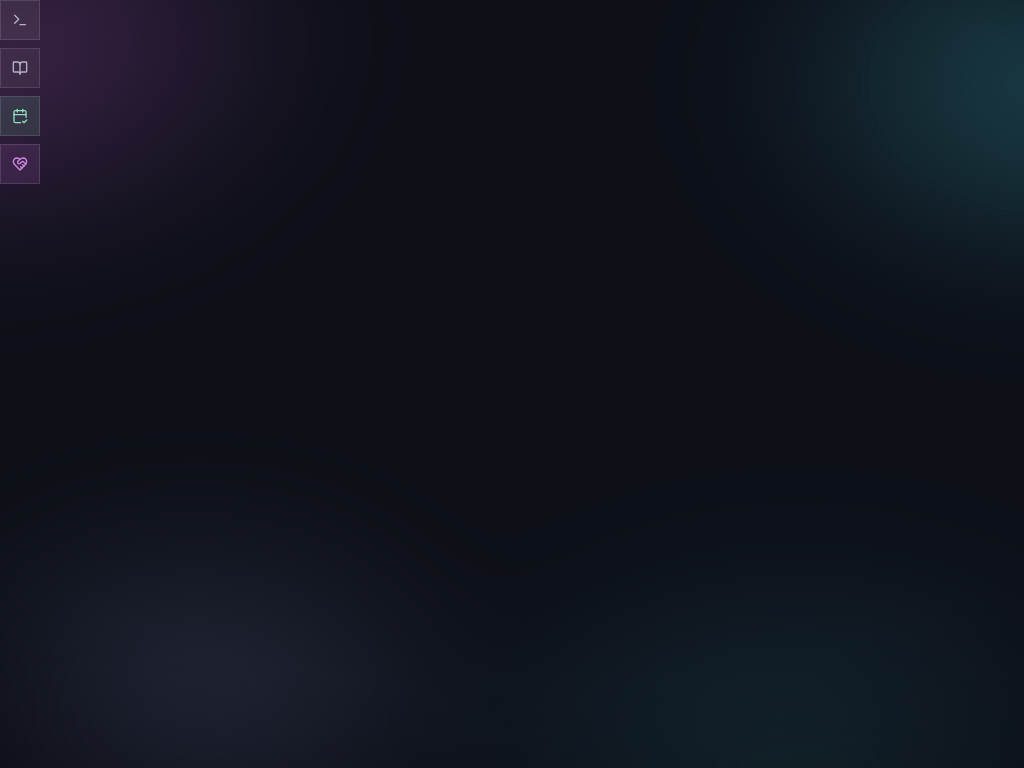
Test case: RightRail › shows a no-matches message when the search returns nothing
Click the button with test id "rail-docs": (20, 68) [0, 48, 40, 88]
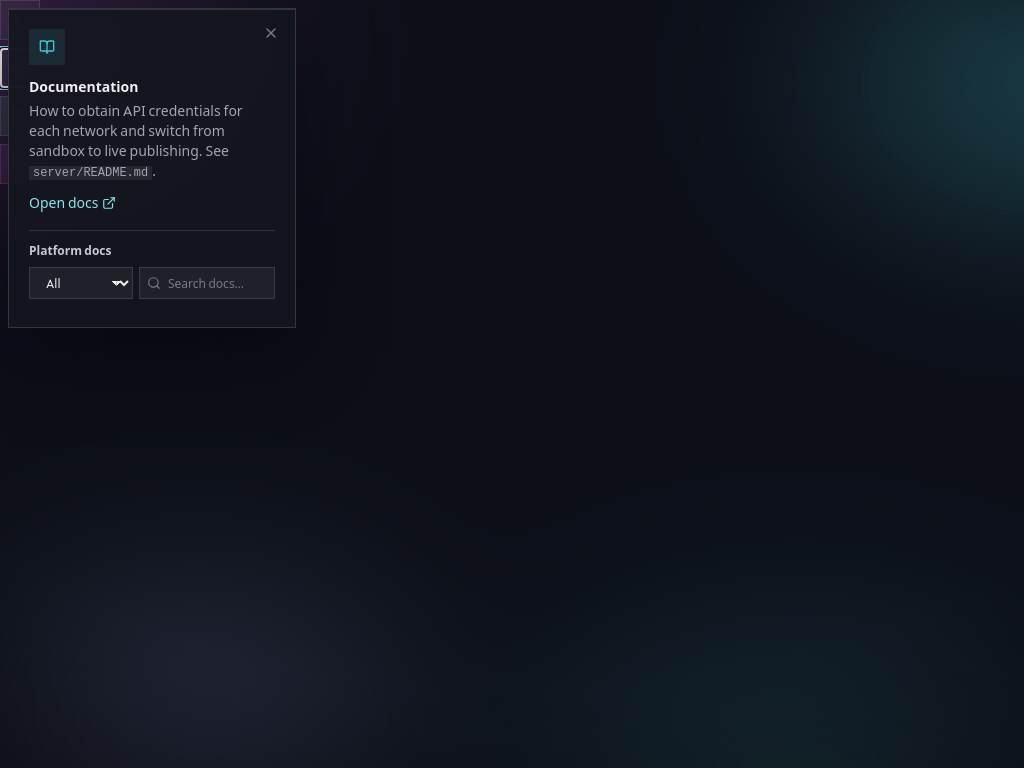
In the search field named "Search platform docs": (207, 283) [139, 267, 275, 299], type "nothing"
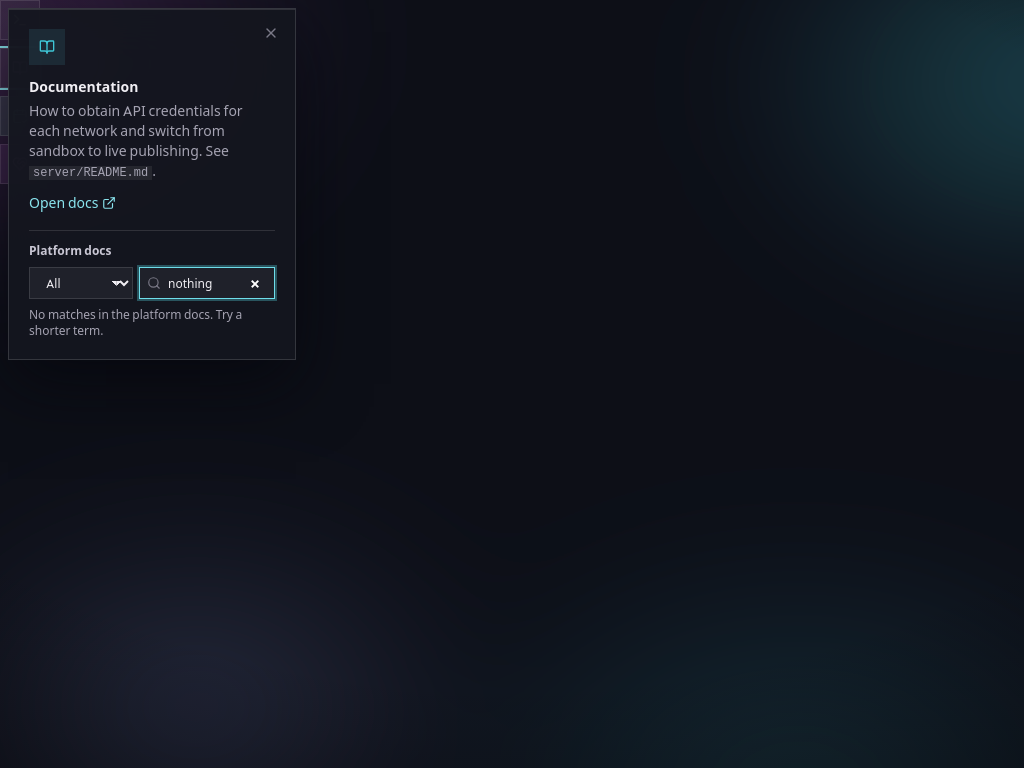
Now the text "No matches in the platform docs. Try a shorter term." is shown, box [29, 307, 275, 339]
